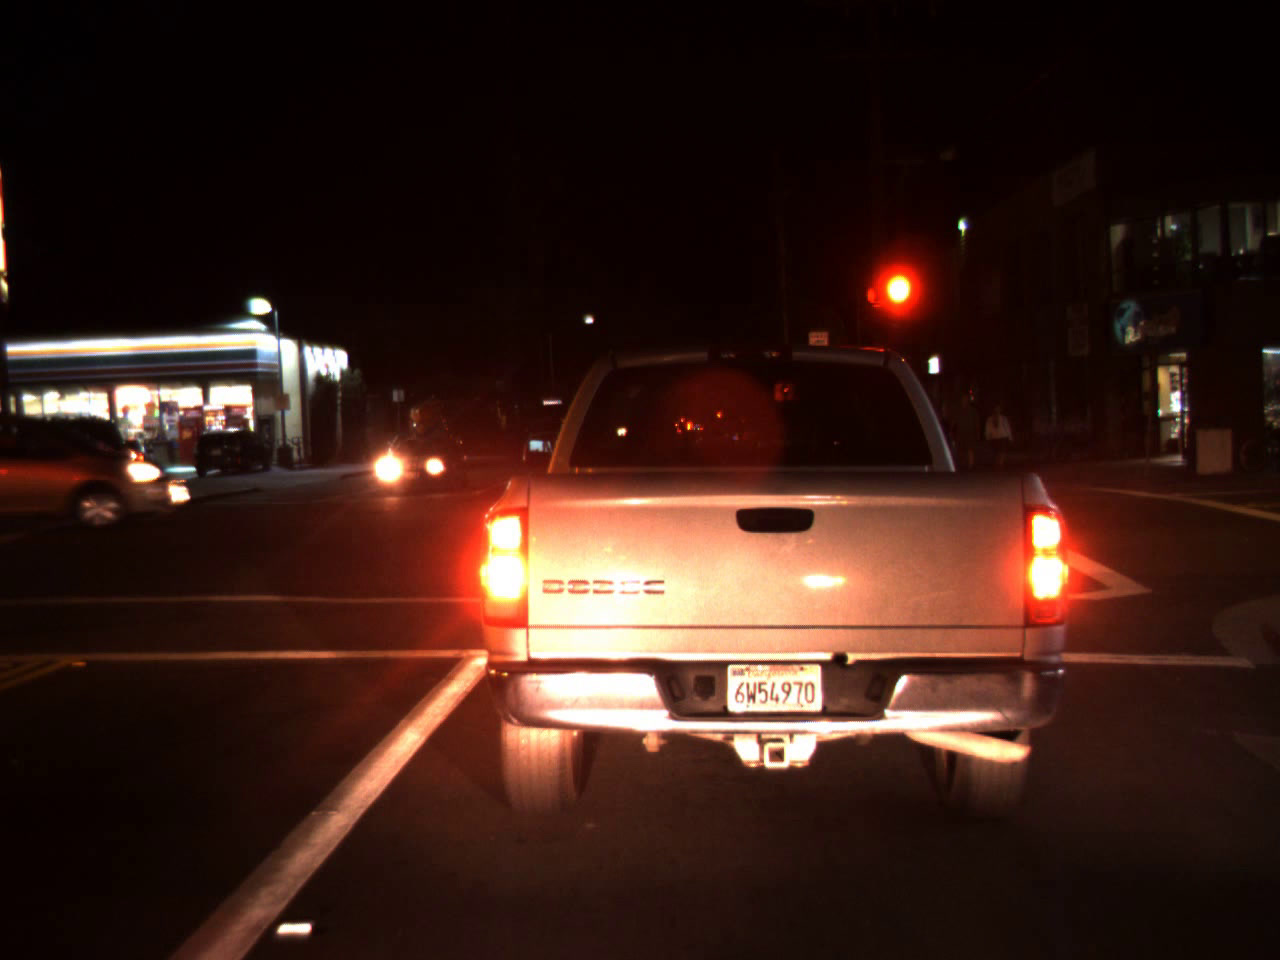stop: (878, 268, 915, 343)
